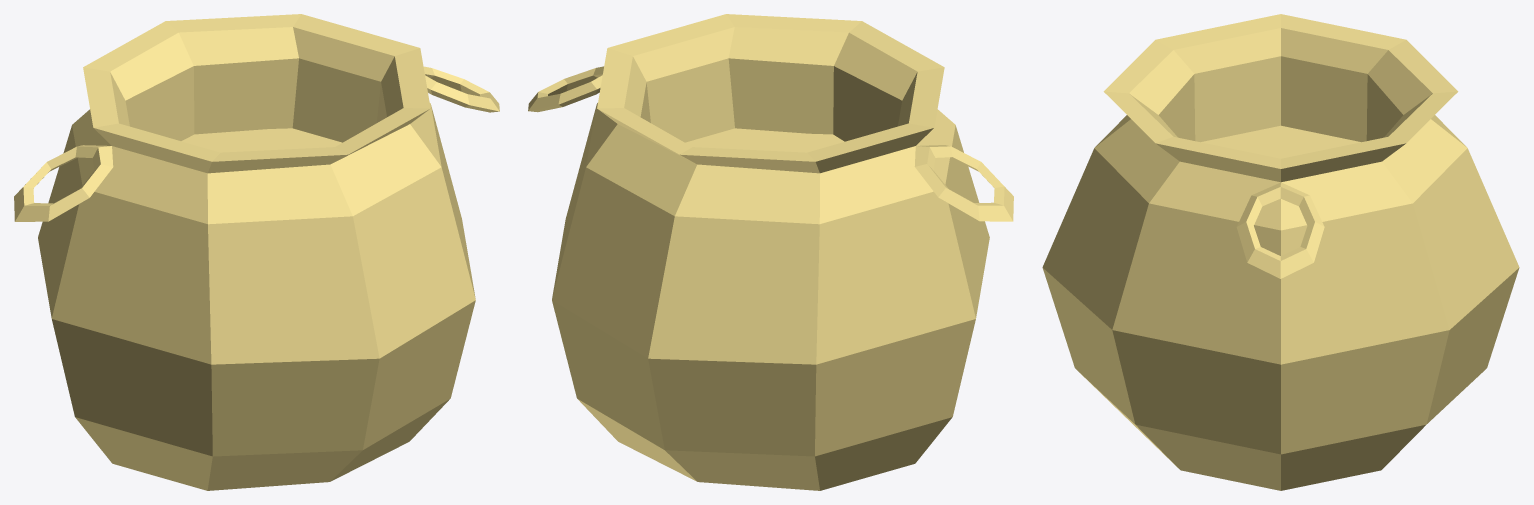
The model's file is Cauldron.001 Full.fbx.
3 renders of one model, left to right at view 1: azimuth 30°, elevation 25°; view 2: azimuth 150°, elevation 25°; view 3: azimuth 270°, elevation 25°, orthographic. The views are drawn at different scales.
Parts seen in each view (by area): view 1: Cauldron.001 Full; view 2: Cauldron.001 Full; view 3: Cauldron.001 Full.
Part boxes in pixels (left/top/right/bottom): Cauldron.001 Full: left=14, top=14, right=499, bottom=490; Cauldron.001 Full: left=528, top=14, right=1013, bottom=490; Cauldron.001 Full: left=1042, top=14, right=1519, bottom=490.
Size of the model in its own units: 175 by 118 by 154.
